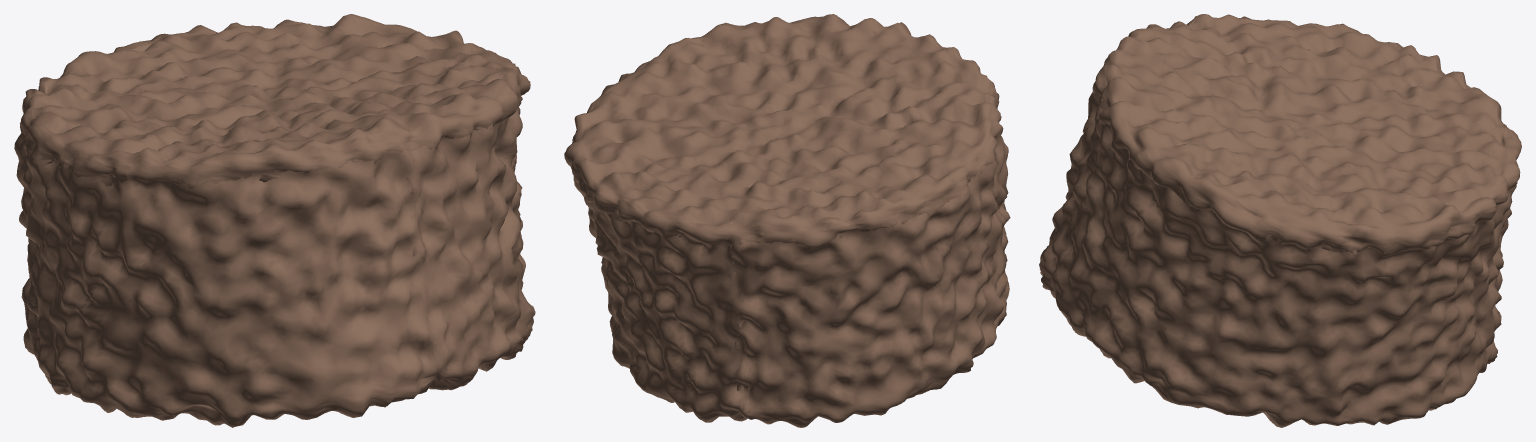
The model's file is COSSACK_CAP_1#40.glb.
3 views of the same model, side by side, from view 1: azimuth 30°, elevation 25°; view 2: azimuth 150°, elevation 25°; view 3: azimuth 270°, elevation 25° (orthographic). The views are drawn at different scales.
Visible parts, largest first — view 1: казак_шапка_1_ур_поза_выставленная; view 2: казак_шапка_1_ур_поза_выставленная; view 3: казак_шапка_1_ур_поза_выставленная.
Boxes of the visible parts, x1,y1,x2,y2 form: казак_шапка_1_ур_поза_выставленная: [14, 14, 535, 427]; казак_шапка_1_ур_поза_выставленная: [564, 14, 1010, 427]; казак_шапка_1_ур_поза_выставленная: [1039, 14, 1521, 427].
Bounding box in the file's own units: 1.28 × 0.8851 × 1.32.
